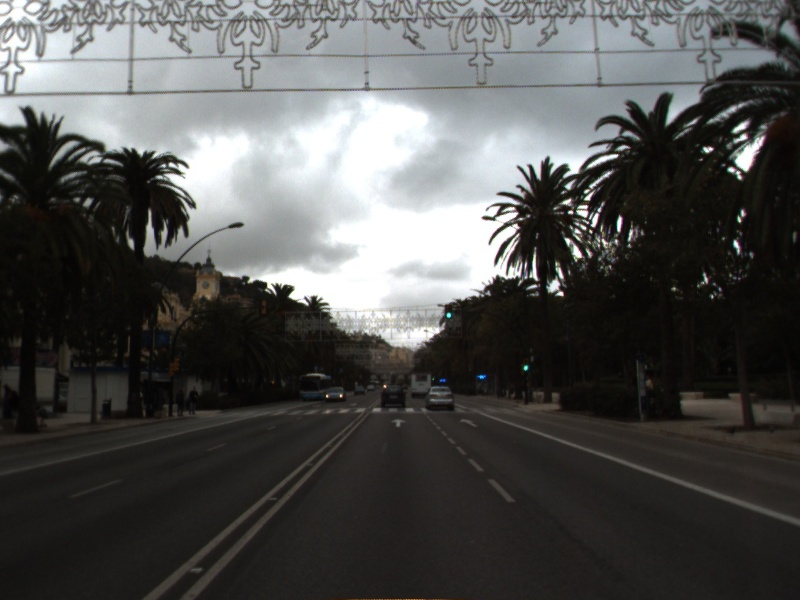STRAIGHT: (457, 416, 480, 429), (389, 417, 409, 429)
